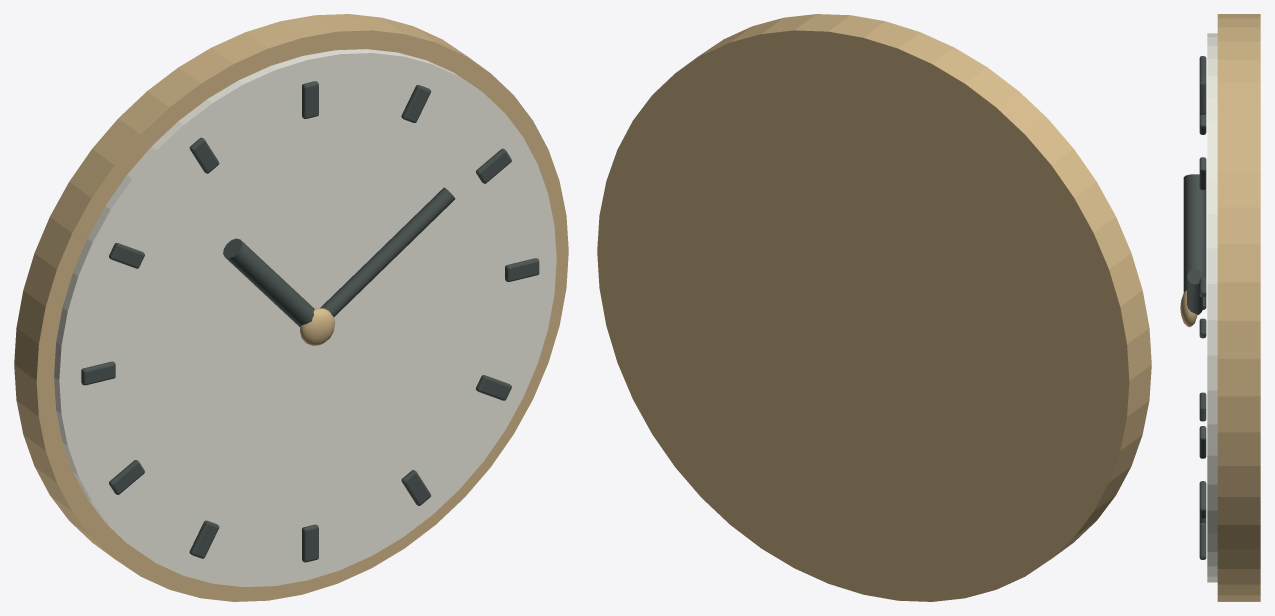
File: wall-clock.glb
3 renders of one model, left to right at view 1: azimuth 30°, elevation 25°; view 2: azimuth 150°, elevation 25°; view 3: azimuth 270°, elevation 25°, orthographic. The views are drawn at different scales.
Visible parts, largest first — view 1: Clock face, wall-clock Brushed brass, wall-clock Graphite powder coat; view 2: wall-clock Brushed brass; view 3: wall-clock Brushed brass, Clock face, wall-clock Graphite powder coat.
Boxes of the visible parts, left/top/right/bottom form: Clock face: left=54, top=49, right=556, bottom=587; wall-clock Brushed brass: left=14, top=14, right=568, bottom=601; wall-clock Graphite powder coat: left=81, top=81, right=539, bottom=562; wall-clock Brushed brass: left=597, top=14, right=1151, bottom=601; wall-clock Brushed brass: left=1180, top=14, right=1260, bottom=601; Clock face: left=1207, top=33, right=1217, bottom=582; wall-clock Graphite powder coat: left=1183, top=56, right=1206, bottom=559.
Size of the model in its own units: 0.52 by 0.52 by 0.071.
